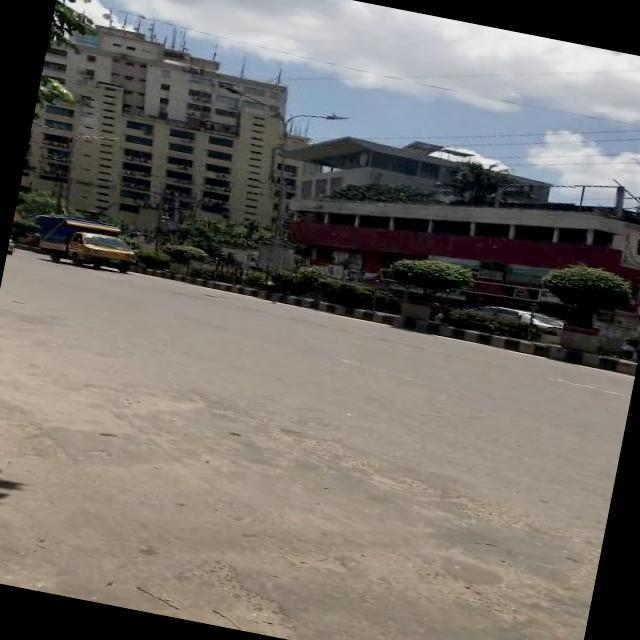truck: (31, 209, 146, 278)
